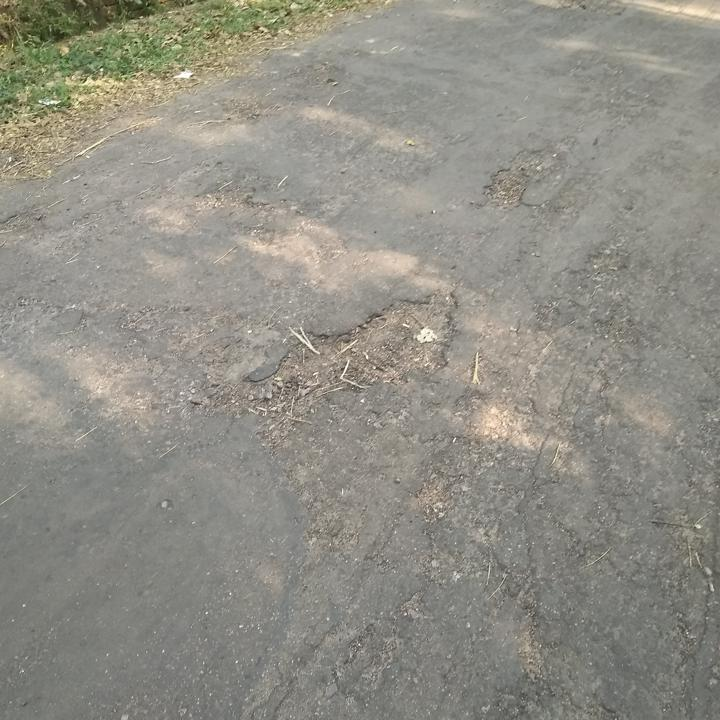pothole: (226, 284, 461, 416), (479, 147, 560, 211), (0, 209, 48, 235)
